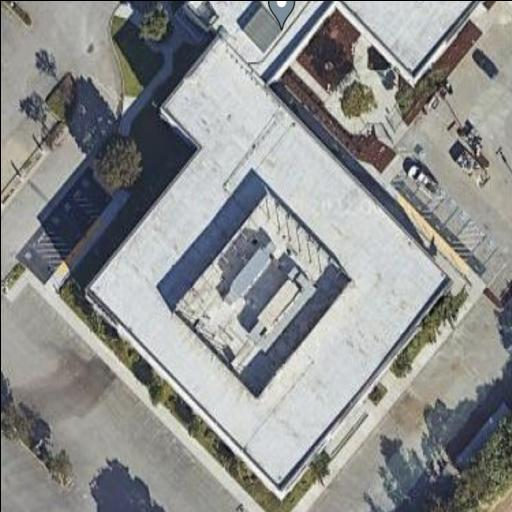Flat Roof: (86, 34, 450, 493)
